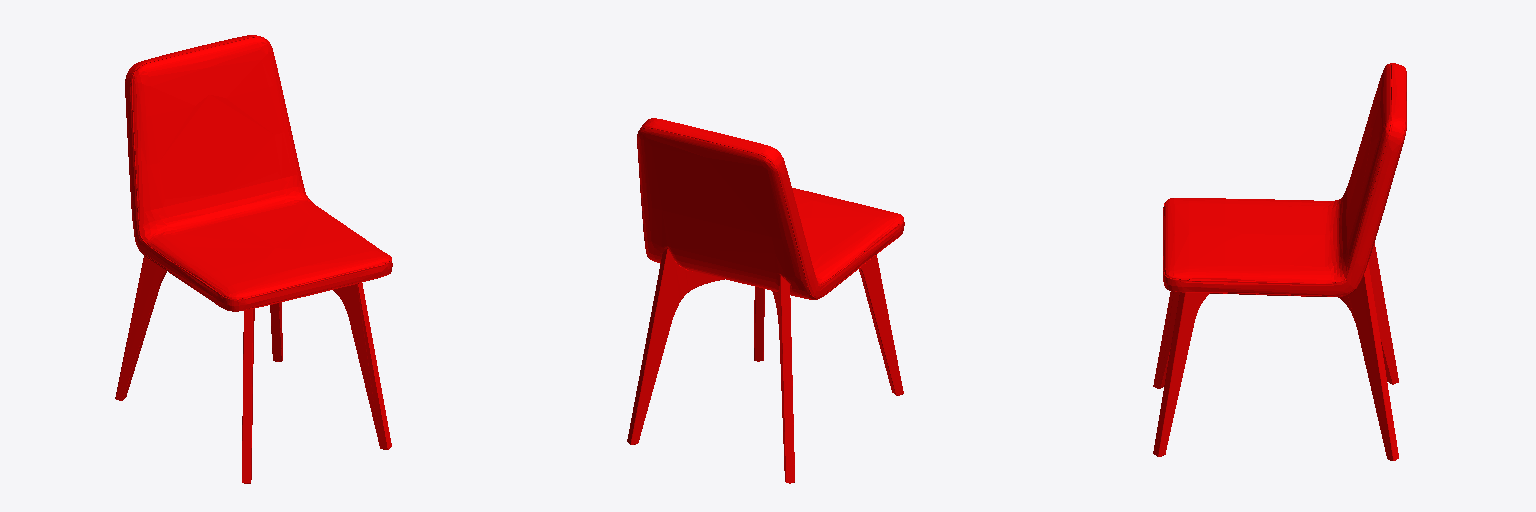
Rendered from chair.obj.
3 views of the same model, side by side, from view 1: azimuth 30°, elevation 25°; view 2: azimuth 150°, elevation 25°; view 3: azimuth 270°, elevation 25° (orthographic).
Visible parts, largest first — view 1: chair1; view 2: chair1; view 3: chair1.
Boxes of the visible parts, <box> form: chair1: <box>115,35,392,483</box>; chair1: <box>627,118,904,483</box>; chair1: <box>1153,63,1406,460</box>.
Bounding box in the file's own units: 7.01 × 13.17 × 9.15.